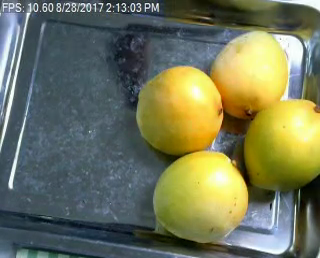Mango: (153, 150, 249, 243), (136, 67, 221, 155), (209, 31, 288, 119), (244, 98, 319, 186)
